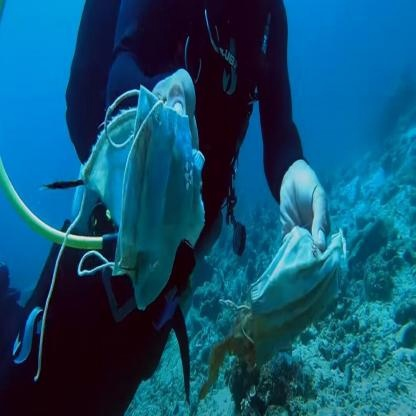Mask: (116, 86, 192, 315), (248, 232, 345, 362), (75, 105, 144, 223)
